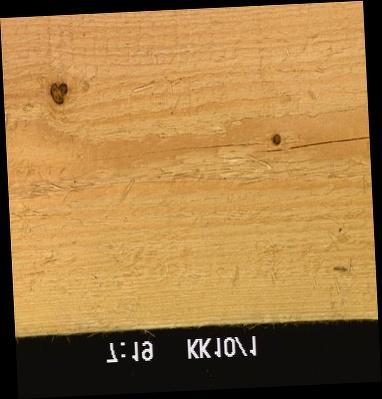dry_knot: (48, 81, 69, 106), (270, 134, 280, 145)
split: (92, 145, 261, 158), (286, 137, 369, 148)
